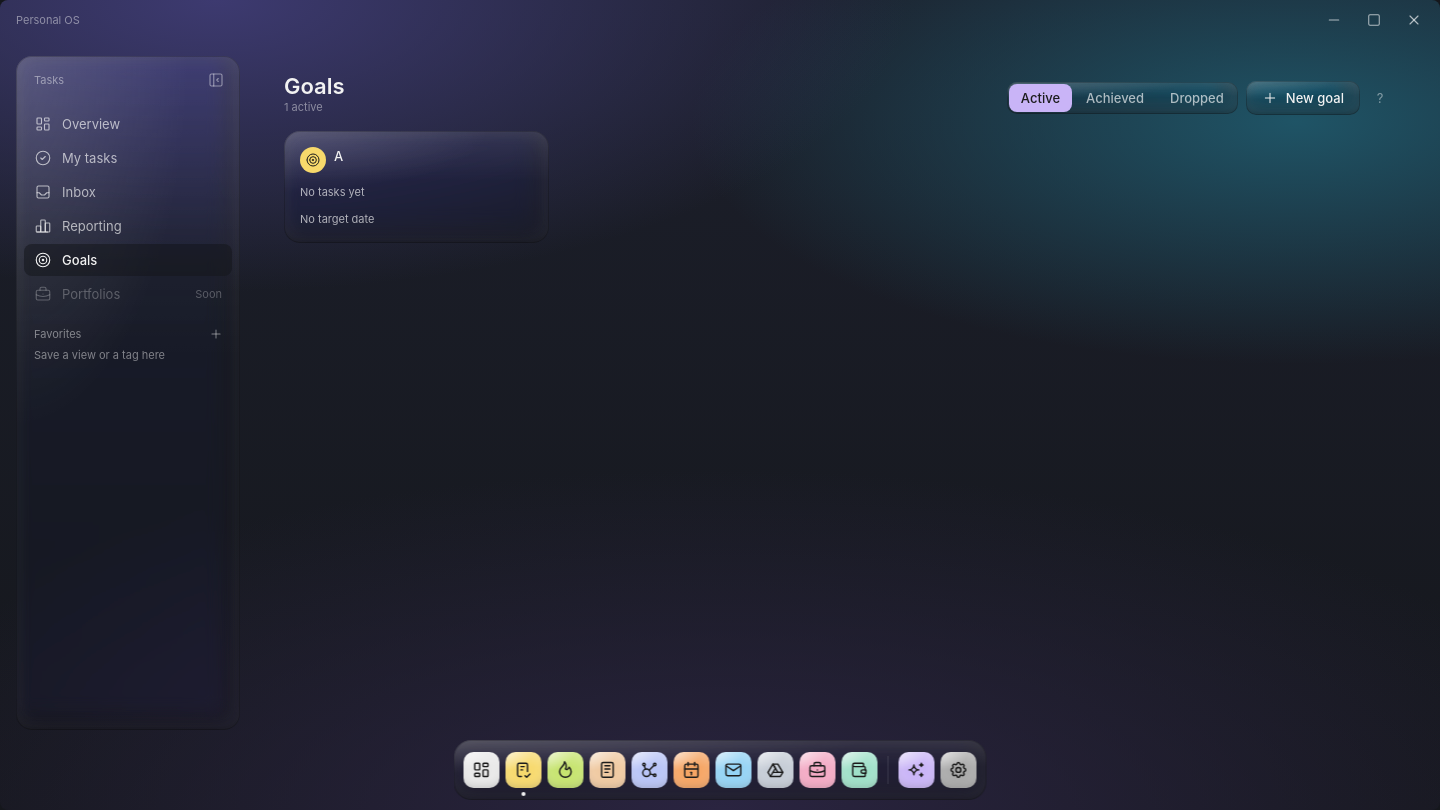
New goal dialog › opens with focus in the title, closes with Escape and gives focus back
This screenshot has width=1440, height=810.
Expected: the link "A" is shown, top-left (334, 148), bottom-right (343, 164)
Click the button "New goal" at (1303, 98), box top-left (1246, 81), bottom-right (1360, 115)
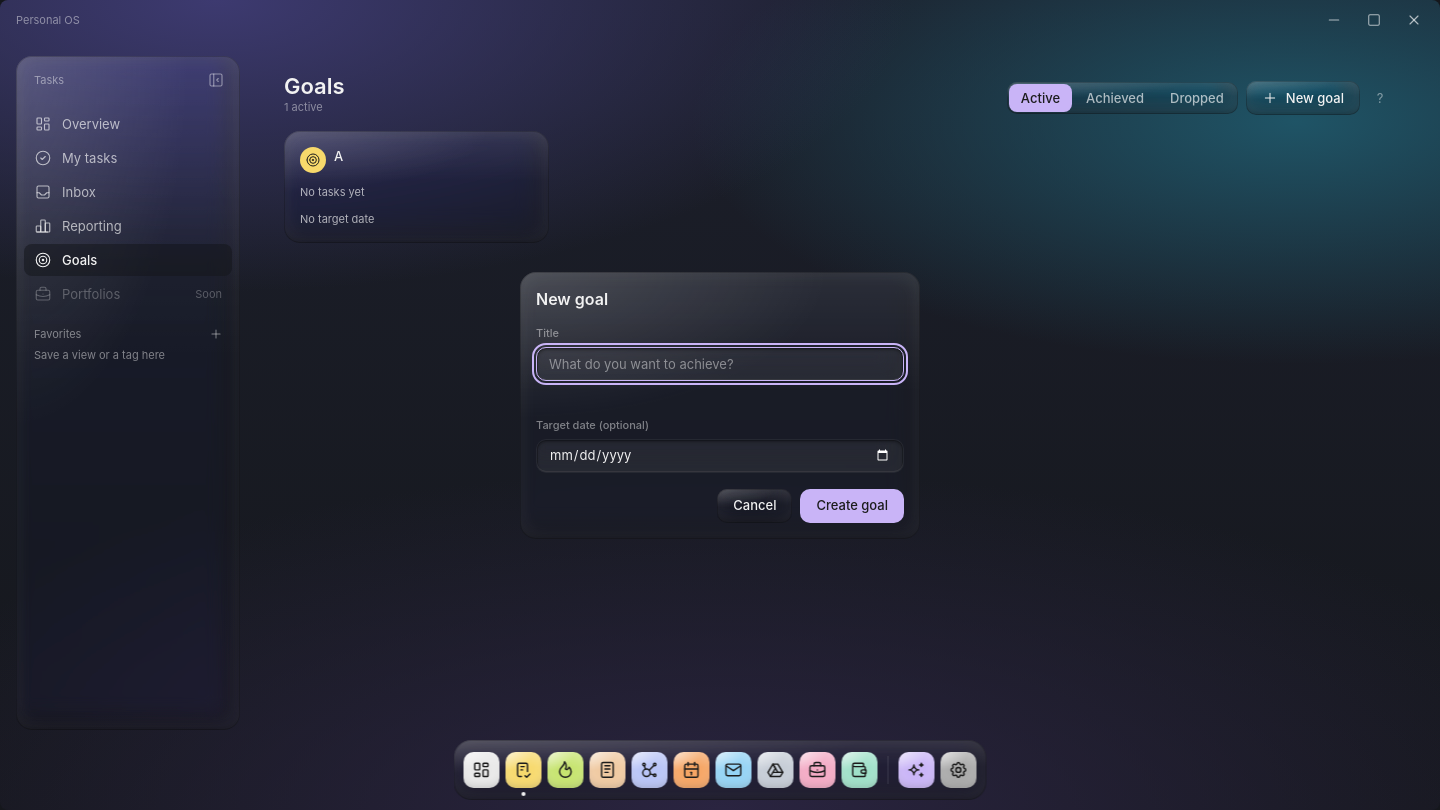
Press Escape
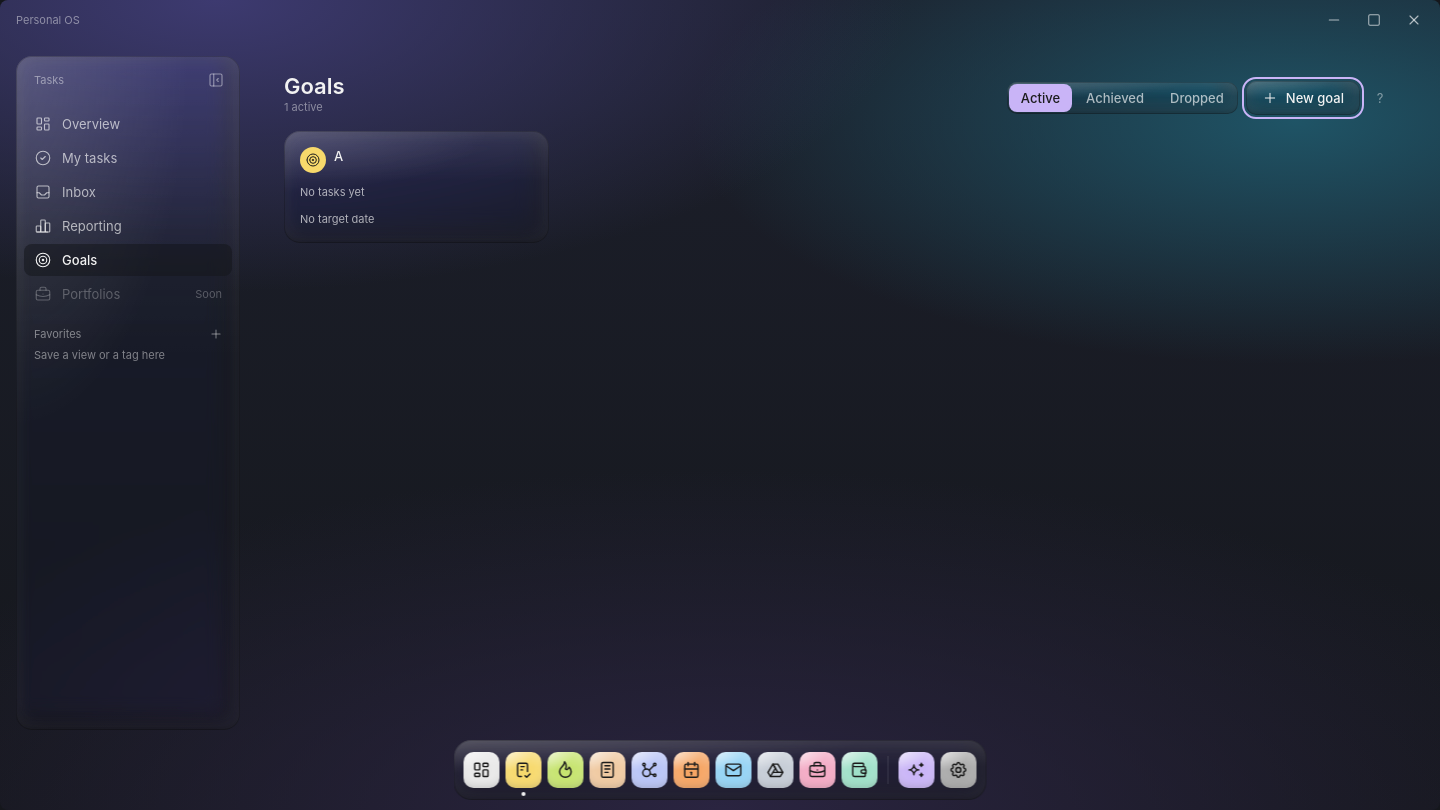
Expected: the dialog is gone
